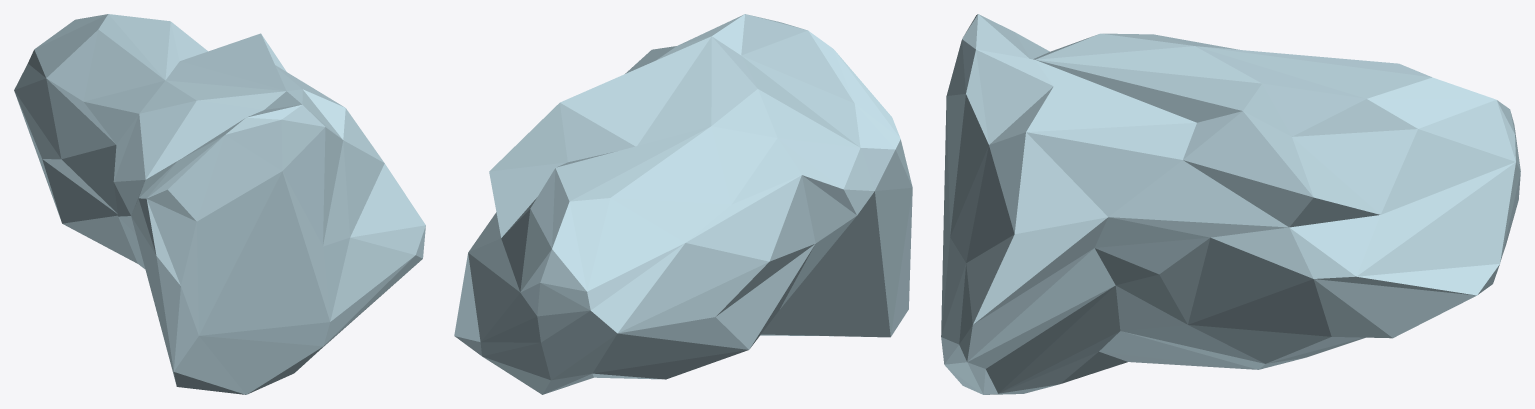
File: LowPoly - Rock 02.fbx
The picture shows the model from 3 angles, left to right: view 1: azimuth 30°, elevation 25°; view 2: azimuth 150°, elevation 25°; view 3: azimuth 270°, elevation 25°; orthographic projection. The views are drawn at different scales.
Parts seen in each view (by area): view 1: LowPoly - Rock 02; view 2: LowPoly - Rock 02; view 3: LowPoly - Rock 02.
Boxes of the visible parts, x1,y1,x2,y2 form: LowPoly - Rock 02: (14, 14, 425, 394); LowPoly - Rock 02: (454, 14, 912, 394); LowPoly - Rock 02: (941, 14, 1520, 394).
Size of the model in its own units: 371 by 355 by 525.
